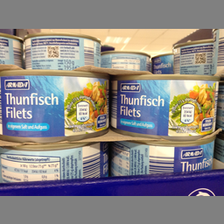fish: (1, 70, 113, 143), (111, 75, 220, 140), (1, 145, 110, 182), (111, 141, 215, 177), (21, 34, 102, 70), (100, 49, 154, 71)
